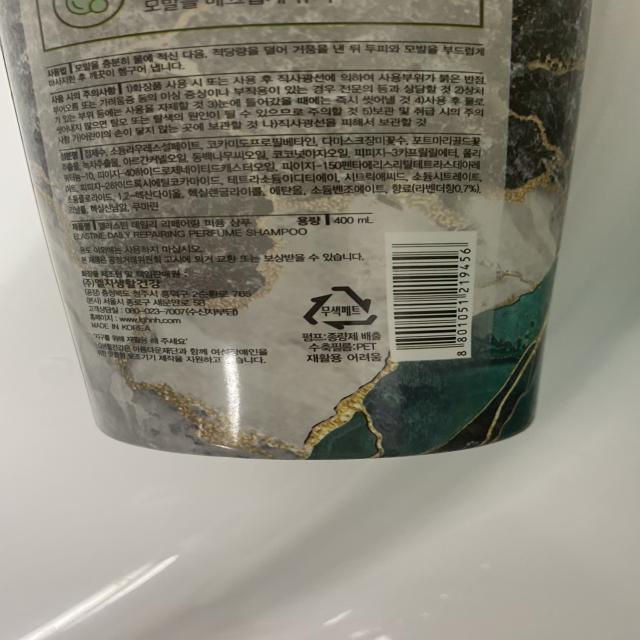ColorlessPET: (294, 282, 386, 334)
